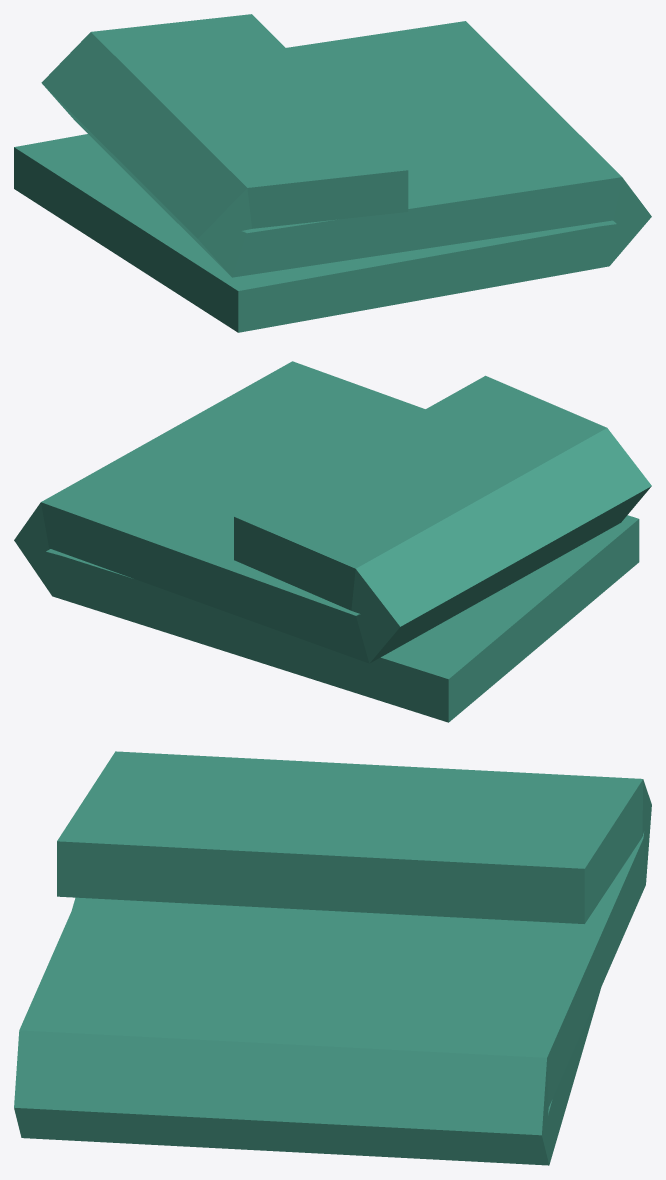
File: Towel_1.fbx
3 renders of one model, top to bottom at view 1: azimuth 30°, elevation 25°; view 2: azimuth 150°, elevation 25°; view 3: azimuth 270°, elevation 25°, orthographic. The views are drawn at different scales.
Parts seen in each view (by area): view 1: Towel_1; view 2: Towel_1; view 3: Towel_1.
Boxes of the visible parts, x1,y1,x2,y2 form: Towel_1: (14,14,651,332); Towel_1: (14,361,651,722); Towel_1: (14,751,651,1165).
Bounding box in the file's own units: 29.3 × 26.83 × 8.13.
